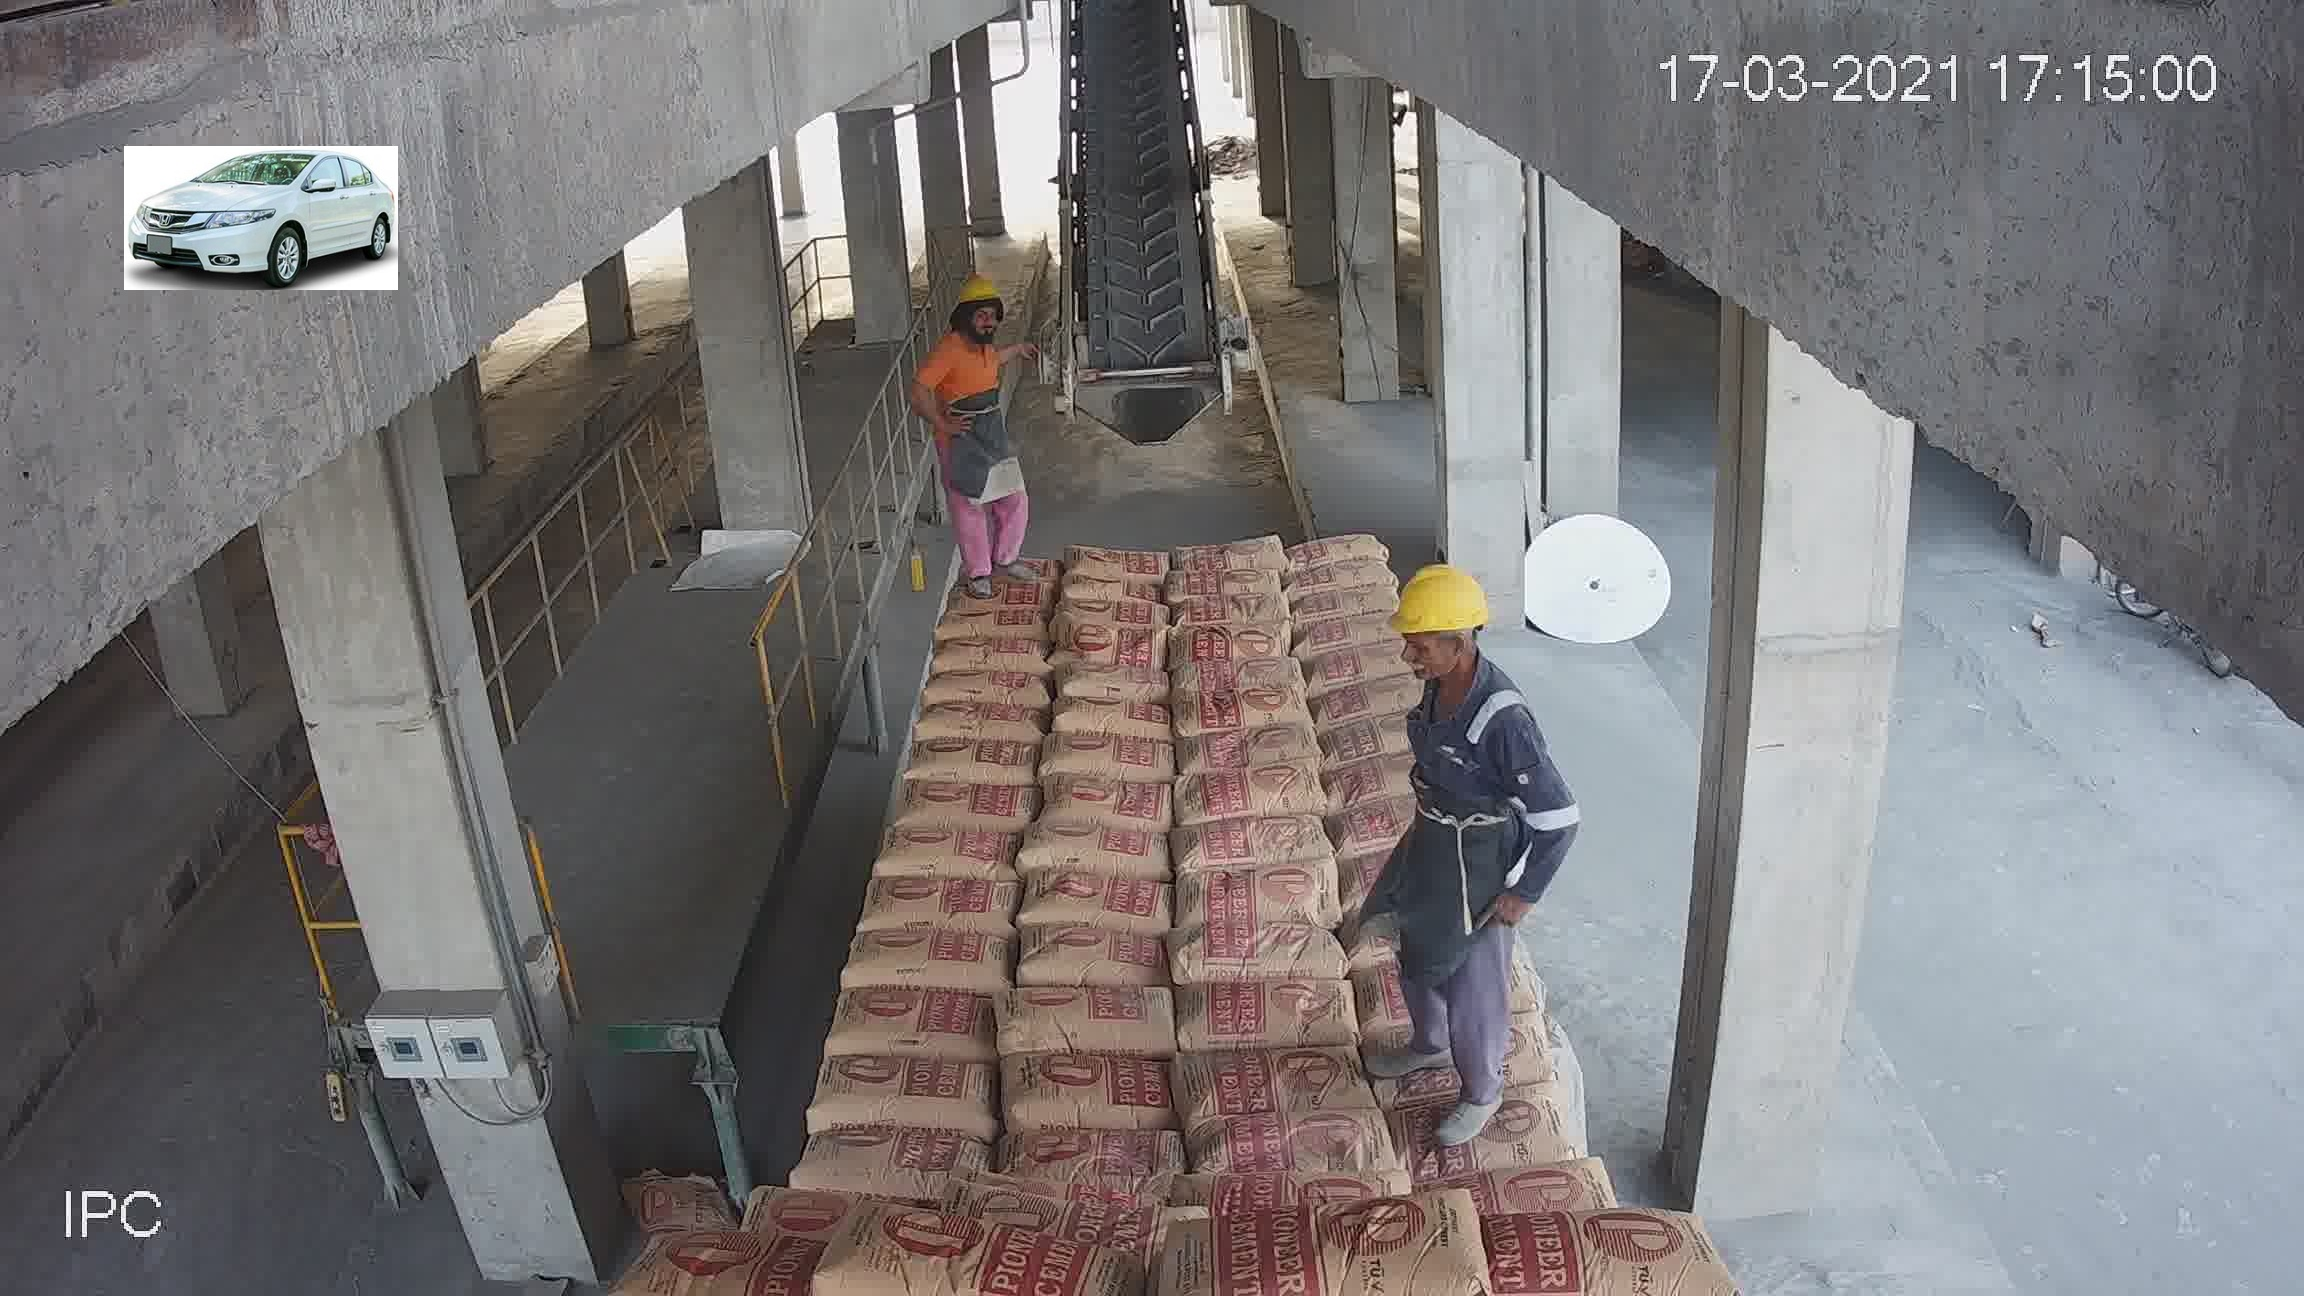bag_h: (1203, 1207, 1500, 1294), (805, 1218, 1120, 1294), (1380, 1076, 1556, 1198), (1446, 1214, 1706, 1294), (1188, 1044, 1375, 1135), (1198, 1108, 1400, 1190), (1171, 975, 1374, 1055), (807, 1057, 1006, 1136), (638, 1226, 847, 1294), (1002, 986, 1188, 1062), (828, 980, 1003, 1059), (1176, 923, 1361, 994), (1014, 1052, 1187, 1128), (855, 872, 1030, 946), (790, 1128, 992, 1187), (1177, 859, 1339, 932), (1435, 1161, 1616, 1226), (839, 927, 1014, 994), (999, 1124, 1180, 1187), (1177, 756, 1336, 828), (1021, 813, 1169, 886), (1176, 809, 1329, 877), (1016, 932, 1177, 991), (1024, 875, 1182, 934), (1044, 772, 1184, 836), (904, 734, 1052, 793), (892, 782, 1041, 836), (908, 696, 1057, 745), (873, 832, 1014, 881), (1169, 655, 1309, 704), (1182, 723, 1321, 772), (1177, 687, 1313, 734), (913, 665, 1049, 709), (1051, 739, 1177, 786), (926, 636, 1068, 677), (1060, 657, 1176, 707), (1067, 611, 1166, 669), (1165, 619, 1290, 663), (1052, 698, 1166, 745), (930, 604, 1055, 646), (1291, 612, 1393, 660), (1065, 543, 1176, 585), (949, 581, 1059, 623), (1298, 642, 1404, 685), (1165, 567, 1283, 604), (1317, 676, 1408, 725), (1291, 560, 1397, 601), (1296, 532, 1396, 574), (1290, 581, 1394, 620), (1173, 592, 1290, 627), (1057, 597, 1174, 631), (1169, 529, 1294, 560), (1054, 574, 1165, 608)
belt: (1055, 2, 1215, 396)
